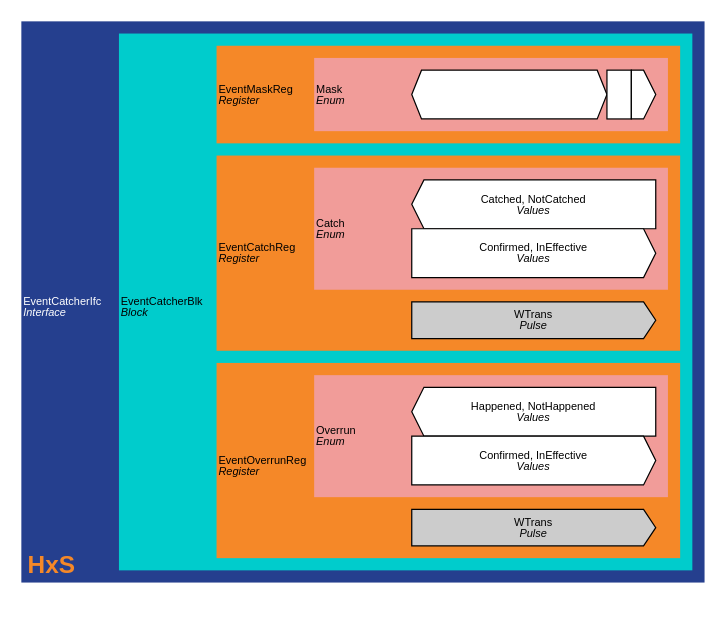
This 725x621 diagram has some shape labels left out. The shapes that lost their labels are listed below. From the top down, each one's centre as x and y in pixels, then its label:
the point at 509,94: EventEnabled, EventDisabled Values
the point at 618,94: Reg
